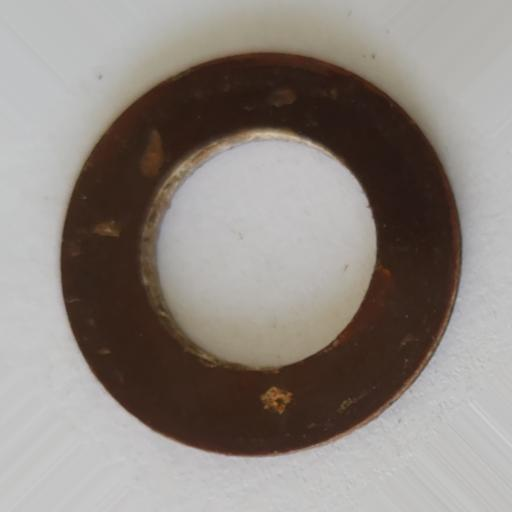defect: (260, 386, 293, 415)
